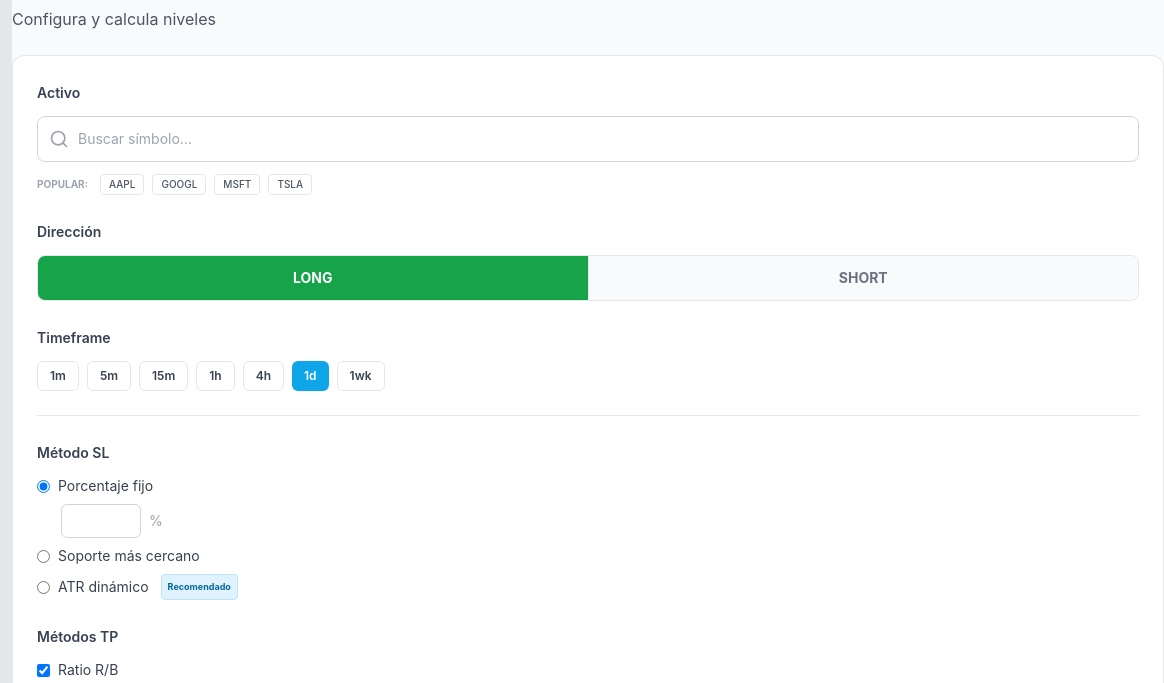
Test: RecommendationPage › shows an error banner when calculation fails
This screenshot has width=1164, height=683.
Click the button "AAPL".
click(122, 184)  # box left=100, top=174, right=144, bottom=195
(page scrolled)
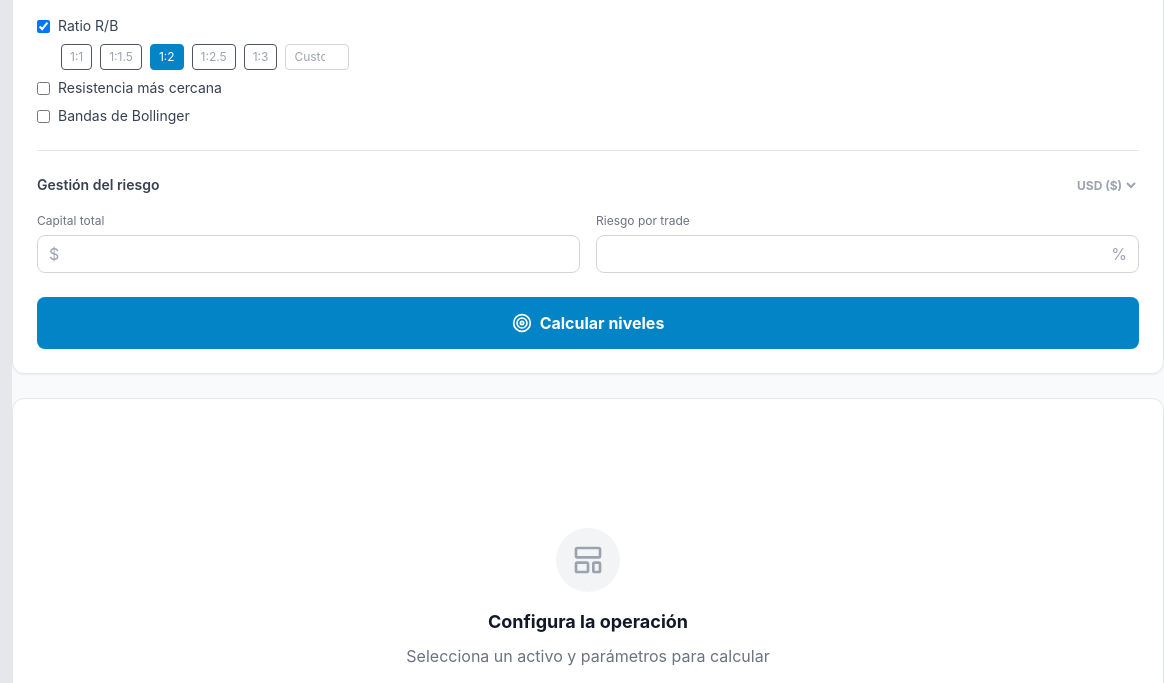
Click the button "Calcular niveles".
click(588, 323)  # box left=37, top=297, right=1139, bottom=349
(page scrolled)
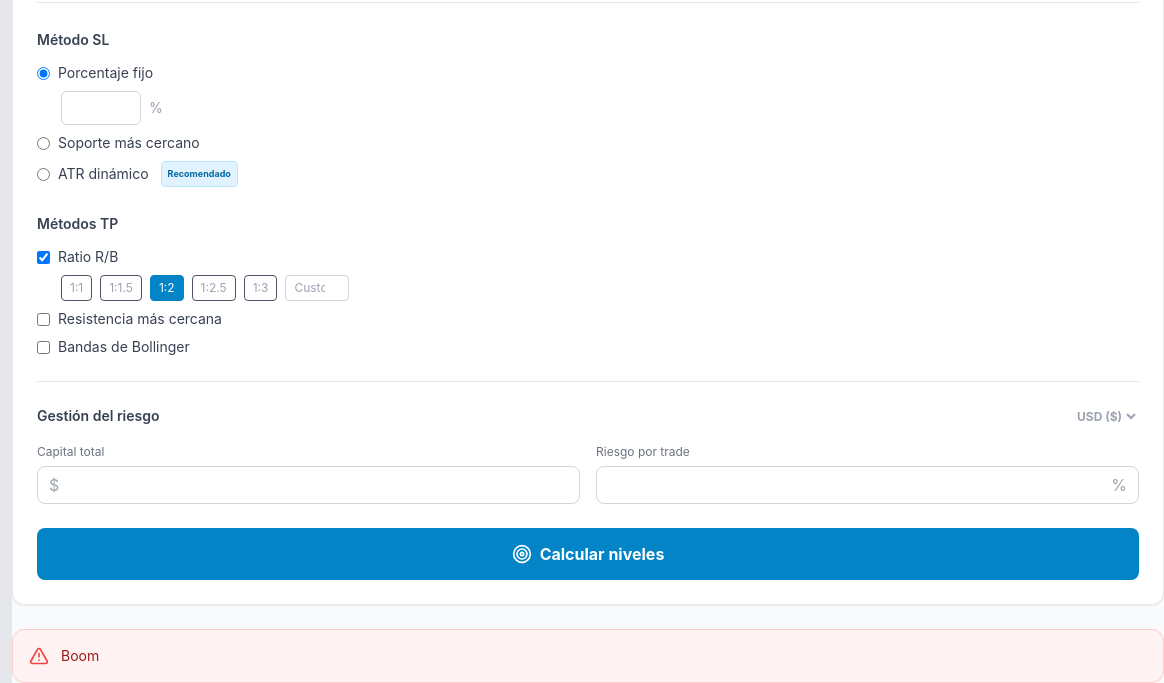
Expected: the text "Boom" is shown, left=61, top=646, right=99, bottom=666
